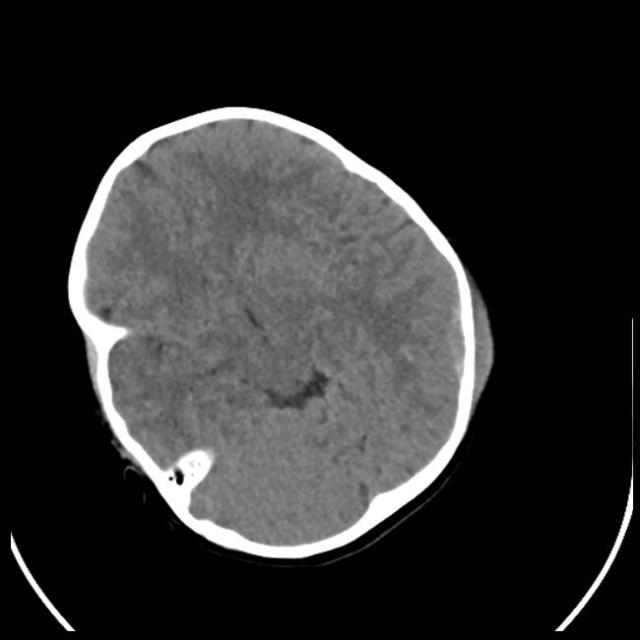lesion: (64, 102, 496, 564)
